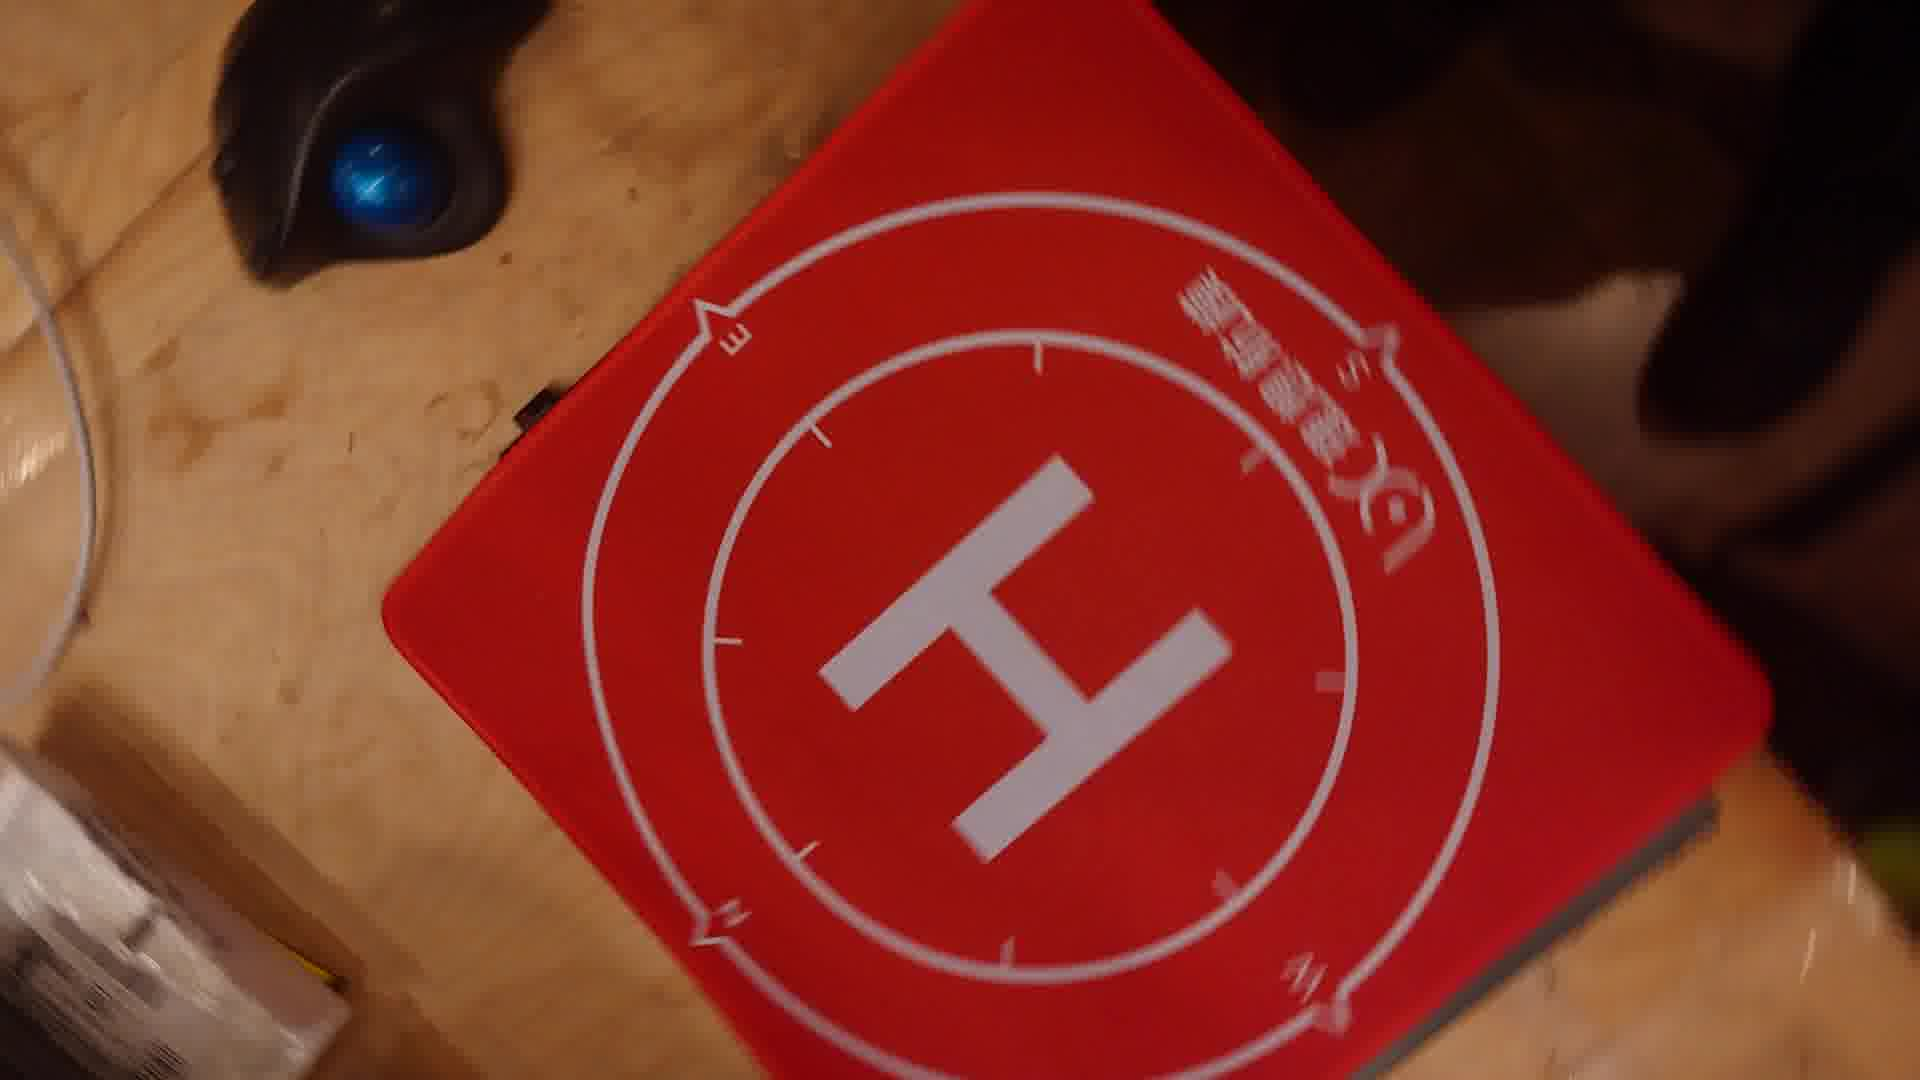H: (820, 454, 1233, 865)
